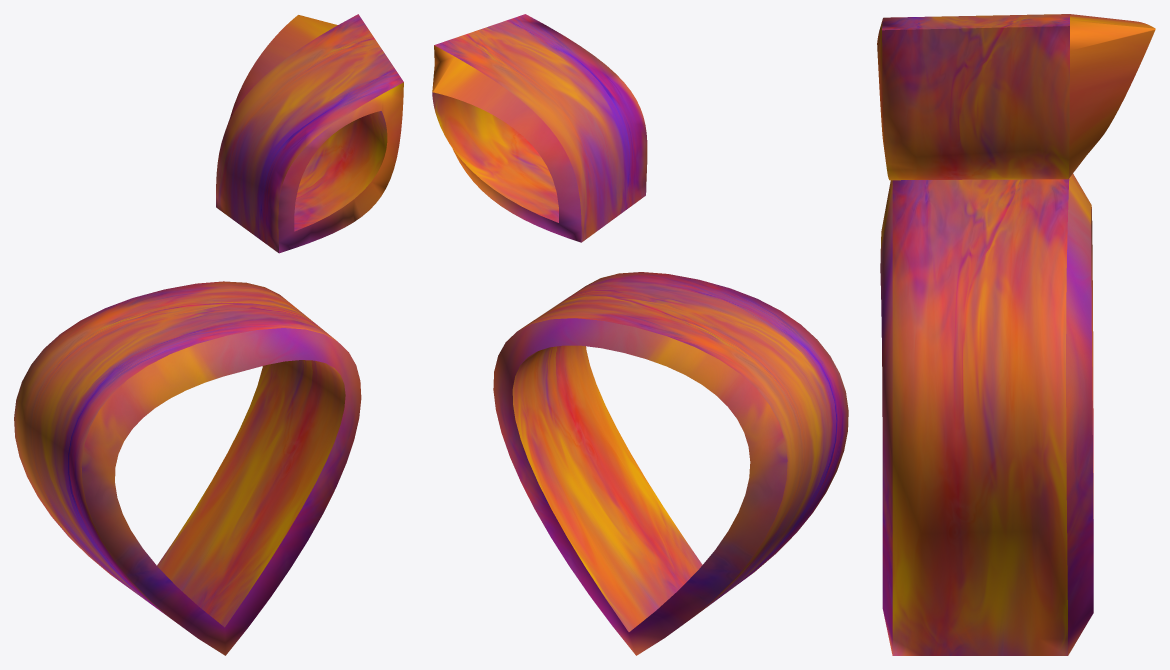
The model's file is redis.gltf.
3 views of the same model, side by side, from view 1: azimuth 30°, elevation 25°; view 2: azimuth 150°, elevation 25°; view 3: azimuth 270°, elevation 25° (orthographic). The views are drawn at different scales.
Parts seen in each view (by area): view 1: Loft; view 2: Loft; view 3: Loft.
Part boxes in pixels (bbox=[...]): Loft: bbox=[14, 14, 403, 655]; Loft: bbox=[432, 14, 848, 655]; Loft: bbox=[877, 14, 1155, 655].
Size of the model in its own units: 250 by 379 by 125.
Materials: 1 (1 with a texture image).
